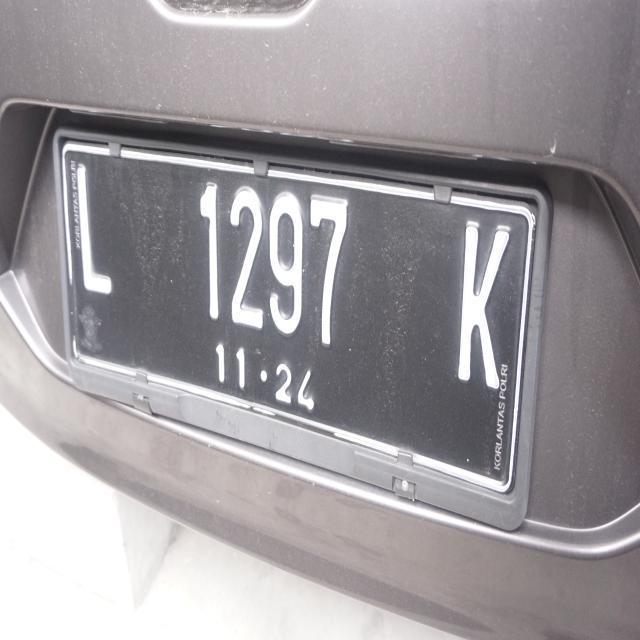1: (187, 170, 225, 326)
2: (220, 175, 266, 332)
7: (302, 174, 352, 352)
9: (262, 176, 308, 340)
K: (439, 192, 514, 410)
L: (62, 145, 119, 309)
